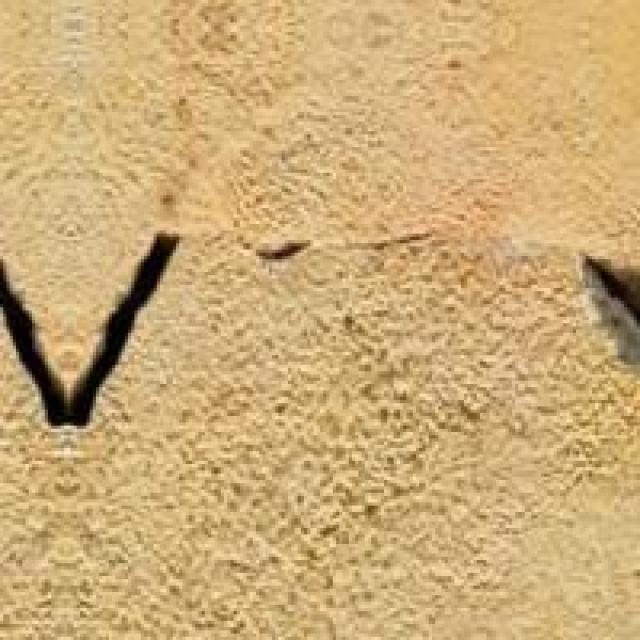crack: (0, 204, 637, 506)
